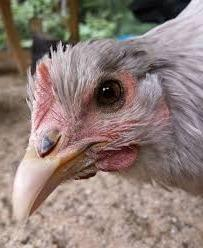AbNormal: (32, 40, 70, 134)
